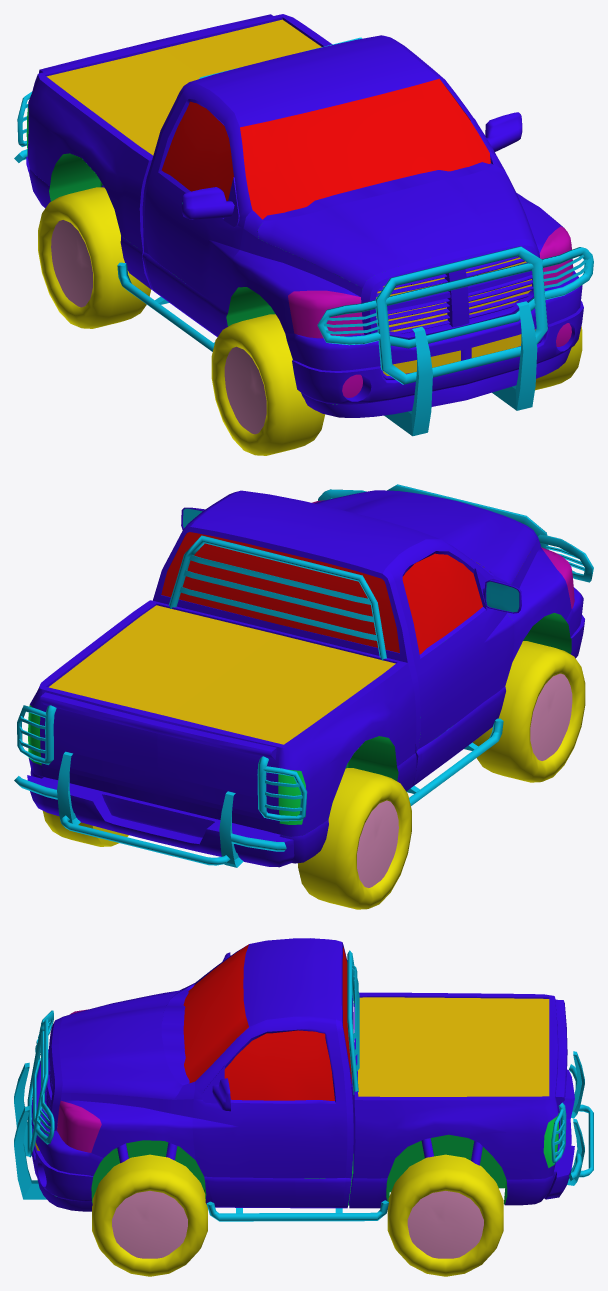
File: Car04_ColorCoded.fbx
The picture shows the model from 3 angles, top to bottom: view 1: azimuth 30°, elevation 25°; view 2: azimuth 150°, elevation 25°; view 3: azimuth 270°, elevation 25°; orthographic projection. The views are drawn at different scales.
Visible parts, largest first — view 1: carBody, chrome, tireFrontR, tireBackR, tireFrontL; view 2: carBody, tireBackR, chrome, tireFrontR, tireBackL; view 3: carBody, tireBackL, tireFrontL, chrome.
Boxes of the visible parts, left/top/right/bottom form: carBody: left=26, top=14, right=583, bottom=417; chrome: left=14, top=91, right=593, bottom=436; tireFrontR: left=211, top=314, right=325, bottom=455; tireBackR: left=38, top=187, right=150, bottom=328; tireFrontL: left=535, top=326, right=582, bottom=390; carBody: left=27, top=490, right=584, bottom=867; tireBackR: left=298, top=768, right=411, bottom=909; chrome: left=14, top=484, right=593, bottom=867; tireFrontR: left=472, top=641, right=585, bottom=782; tireBackL: left=43, top=811, right=128, bottom=846; carBody: left=31, top=938, right=574, bottom=1211; tireBackL: left=387, top=1154, right=503, bottom=1276; tireFrontL: left=92, top=1154, right=207, bottom=1276; chrome: left=14, top=1010, right=593, bottom=1221.
Bounding box in the file's own units: 68.99 × 120 × 54.95.
